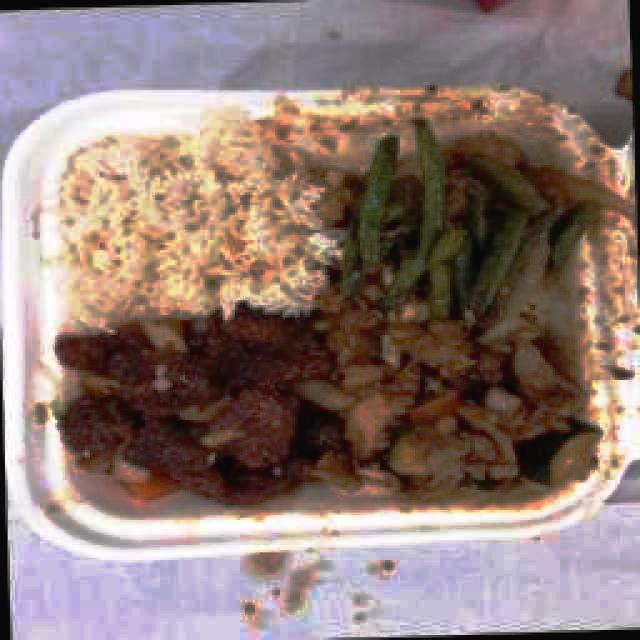Beijing Beef: (68, 314, 315, 492)
Kung Pao Chicken: (334, 313, 591, 481)
String Bean Chicken Breast: (329, 130, 590, 307)
rice: (69, 140, 322, 307)
